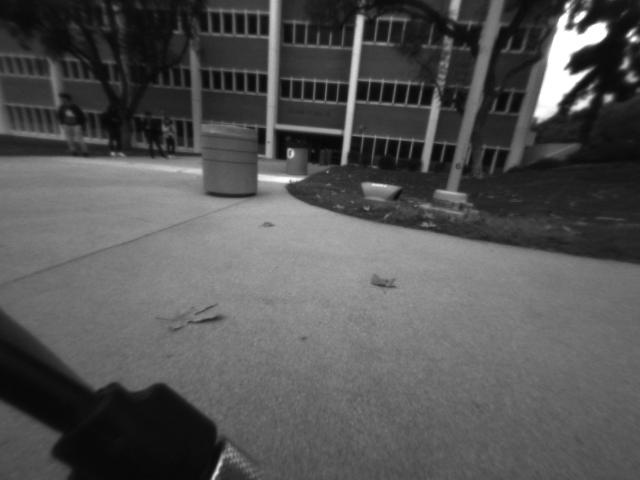trashcan: (195, 114, 264, 202), (283, 141, 309, 181)
